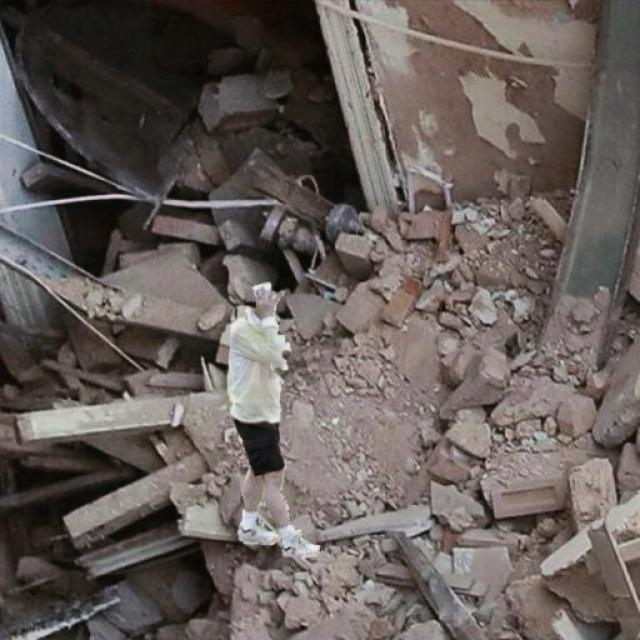Person in Rubble: (228, 283, 320, 556)
